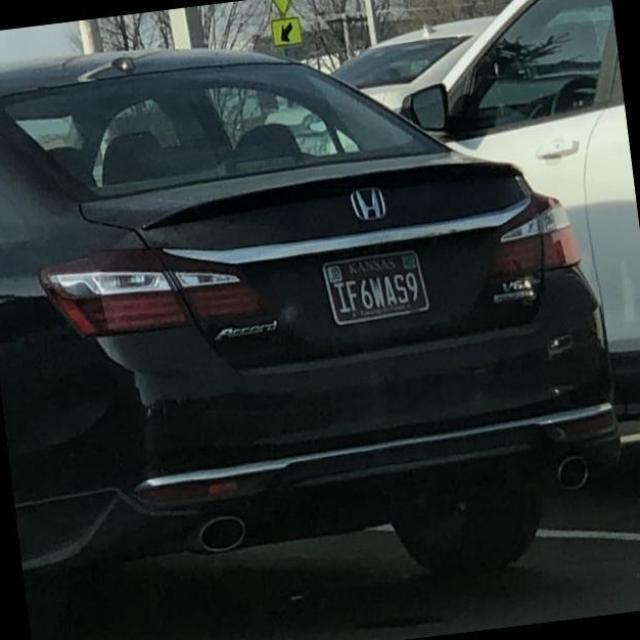license-plate: (297, 231, 515, 344)
